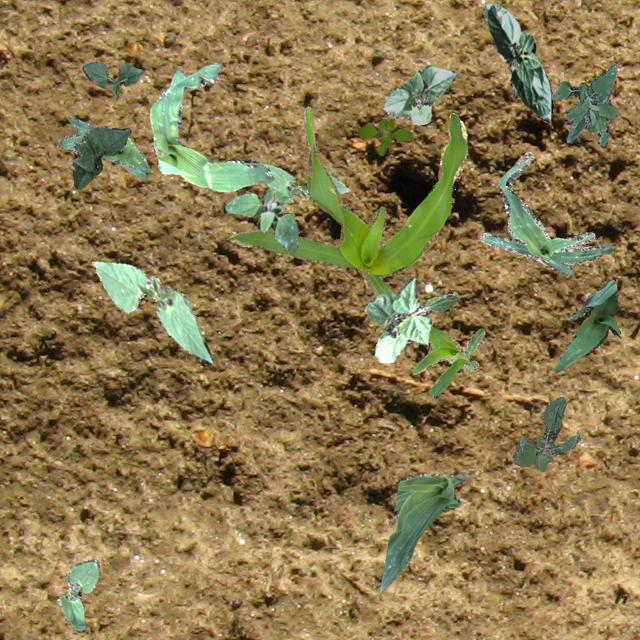crop: (226, 106, 466, 294), (479, 150, 614, 274), (150, 61, 274, 190), (92, 260, 212, 364), (379, 472, 467, 592), (482, 2, 552, 122), (364, 276, 456, 362), (552, 278, 620, 372), (56, 114, 148, 178), (412, 326, 484, 396), (382, 64, 456, 124), (242, 158, 348, 198), (72, 125, 130, 188), (58, 558, 98, 632), (81, 61, 142, 98)
weed: (550, 62, 616, 146), (512, 396, 580, 470), (225, 186, 298, 252), (358, 118, 412, 154)
